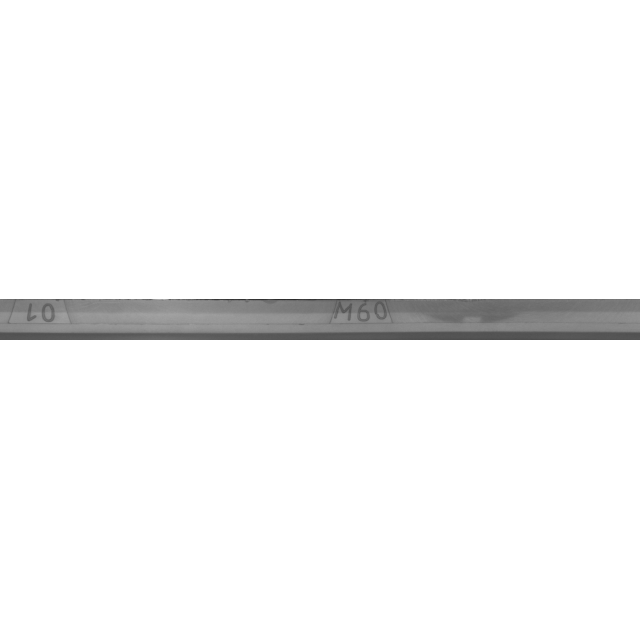mohao: (268, 270, 468, 370)
xuehao: (0, 270, 139, 370)
